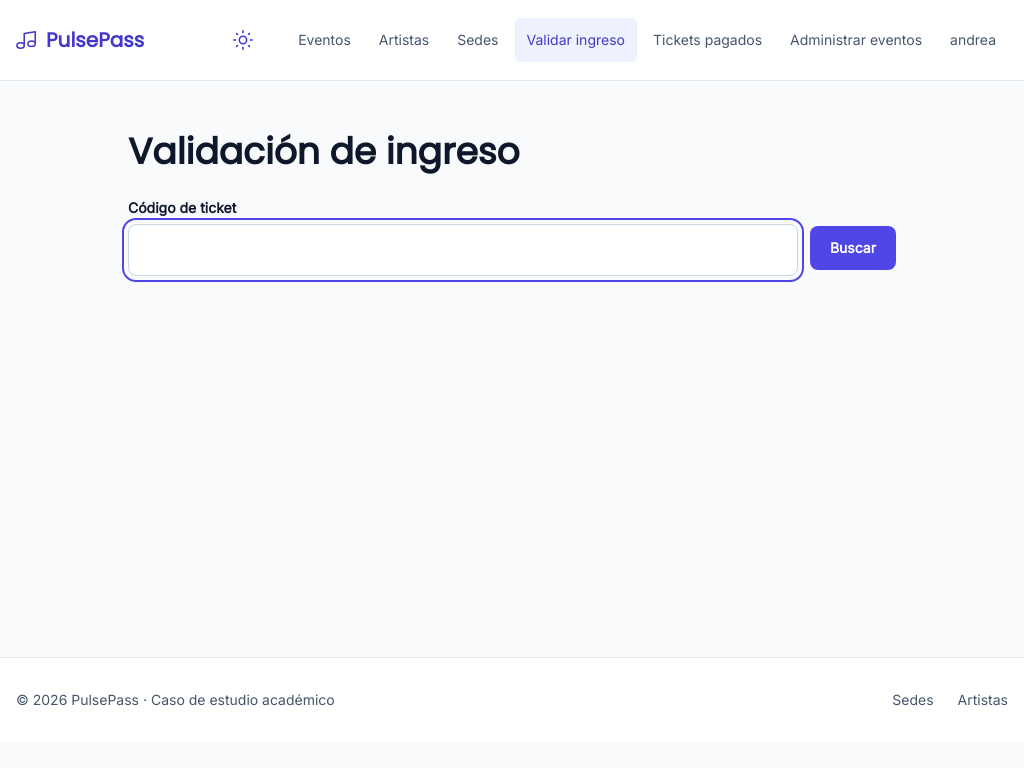
Test: TEST-FE-STF-003 ticket inexistente muestra 404
In the field labelled "Código de ticket": (463, 250) [128,224,798,276], type "TKT-8F2A1C"
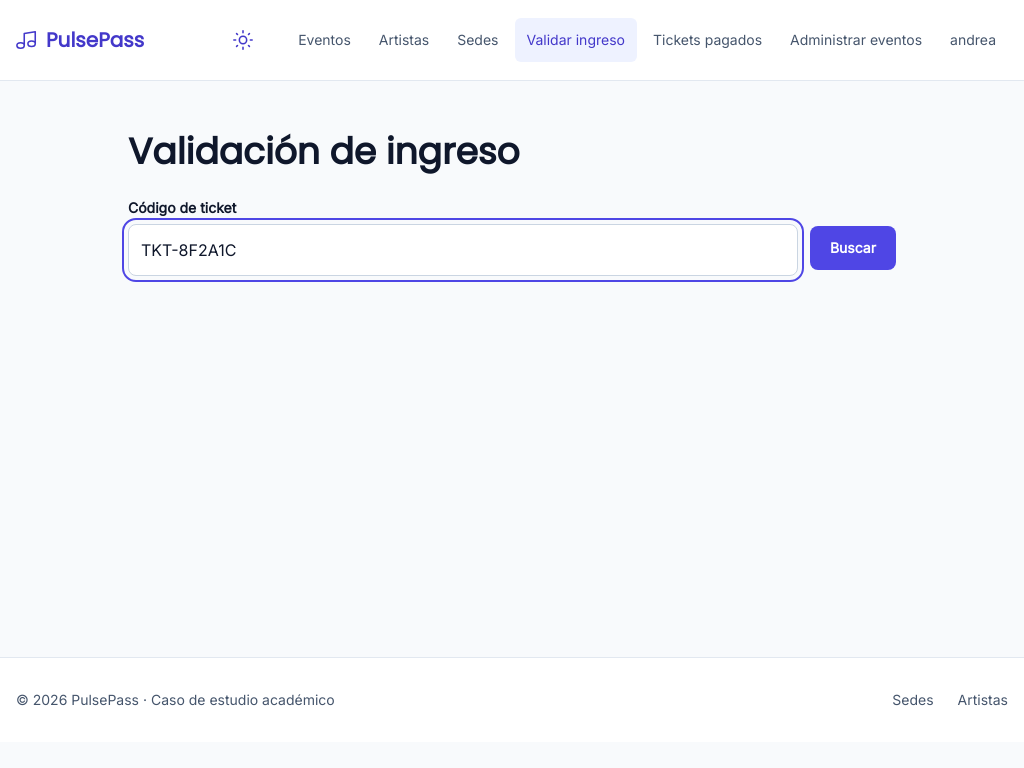
Click the button "Buscar": (853, 248) [810,226,896,270]
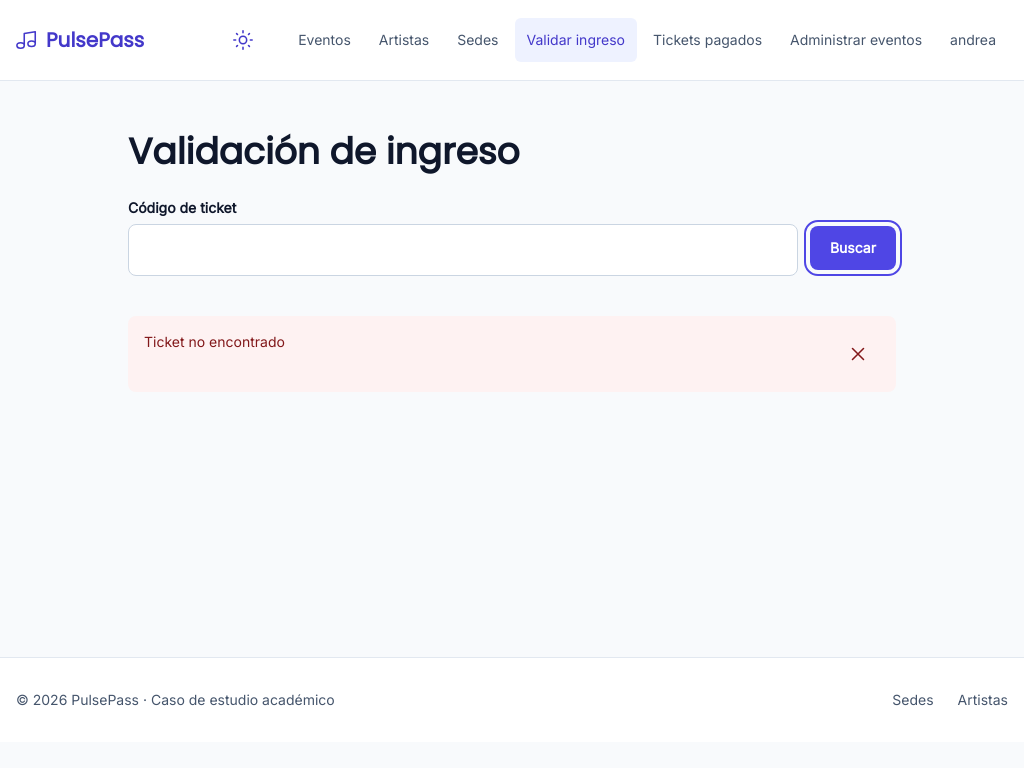
Expected: the text "Ticket no encontrado" is shown, [144,332,285,352]
